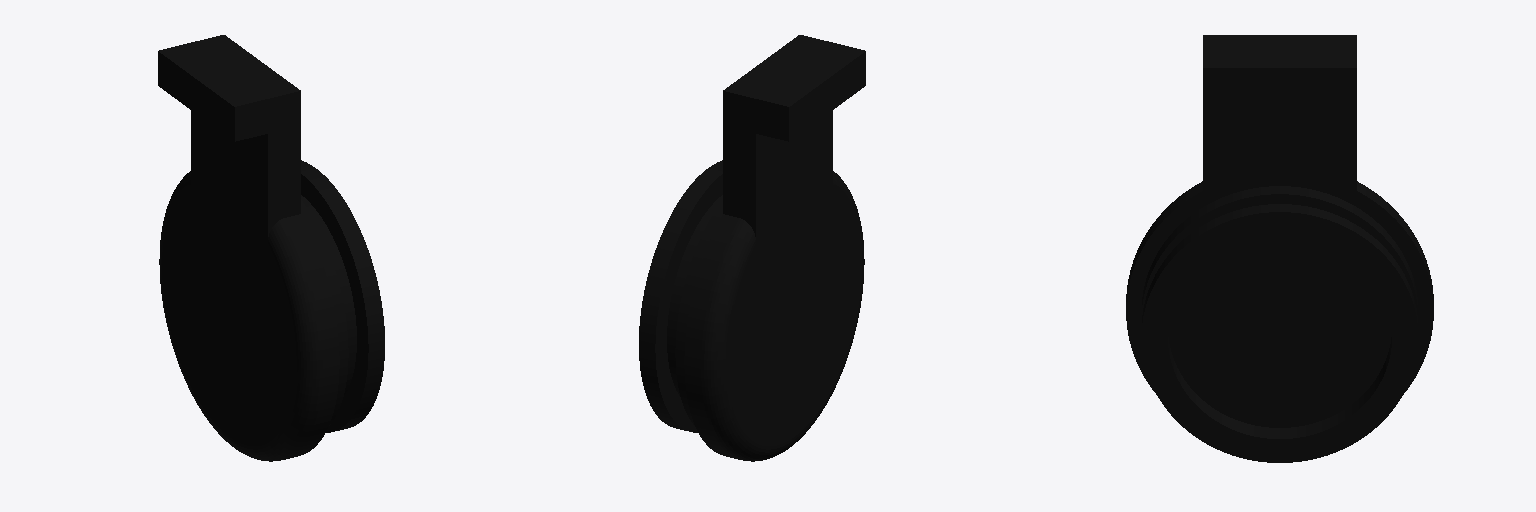
Rendered from CameraCapR.obj.
3 views of the same model, side by side, from view 1: azimuth 30°, elevation 25°; view 2: azimuth 150°, elevation 25°; view 3: azimuth 270°, elevation 25° (orthographic).
Parts seen in each view (by area): view 1: CameraCapR_Camera_Cap_v9.001; view 2: CameraCapR_Camera_Cap_v9.001; view 3: CameraCapR_Camera_Cap_v9.001.
Boxes of the visible parts, box(x1,y1,x2,y2) form: CameraCapR_Camera_Cap_v9.001: box(158, 35, 384, 461); CameraCapR_Camera_Cap_v9.001: box(639, 35, 865, 461); CameraCapR_Camera_Cap_v9.001: box(1126, 35, 1433, 462).
Size of the model in its own units: 0.018 by 0.055 by 0.04.